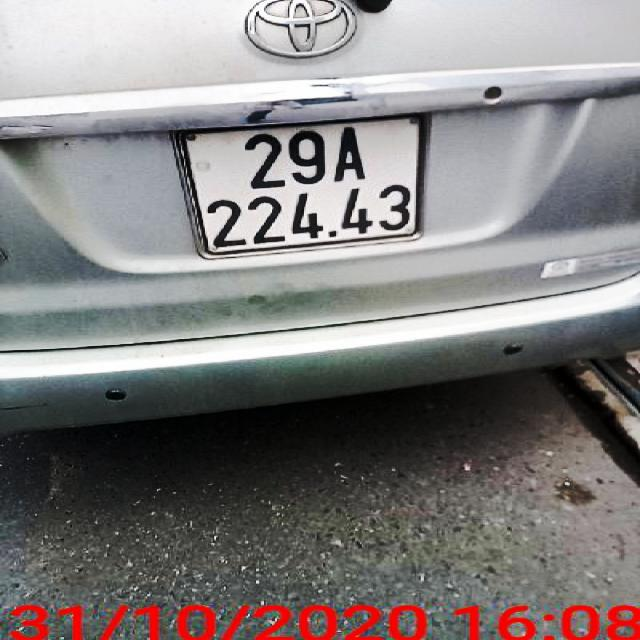license_plate: (184, 117, 426, 255)
